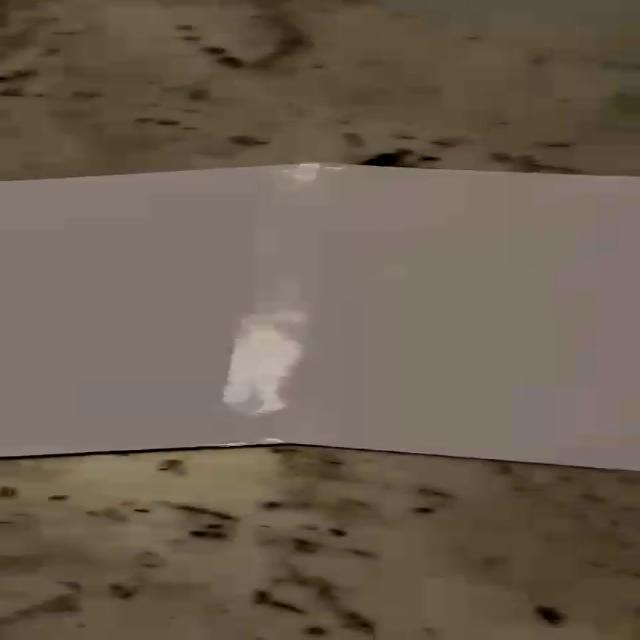road: (3, 163, 637, 470)
